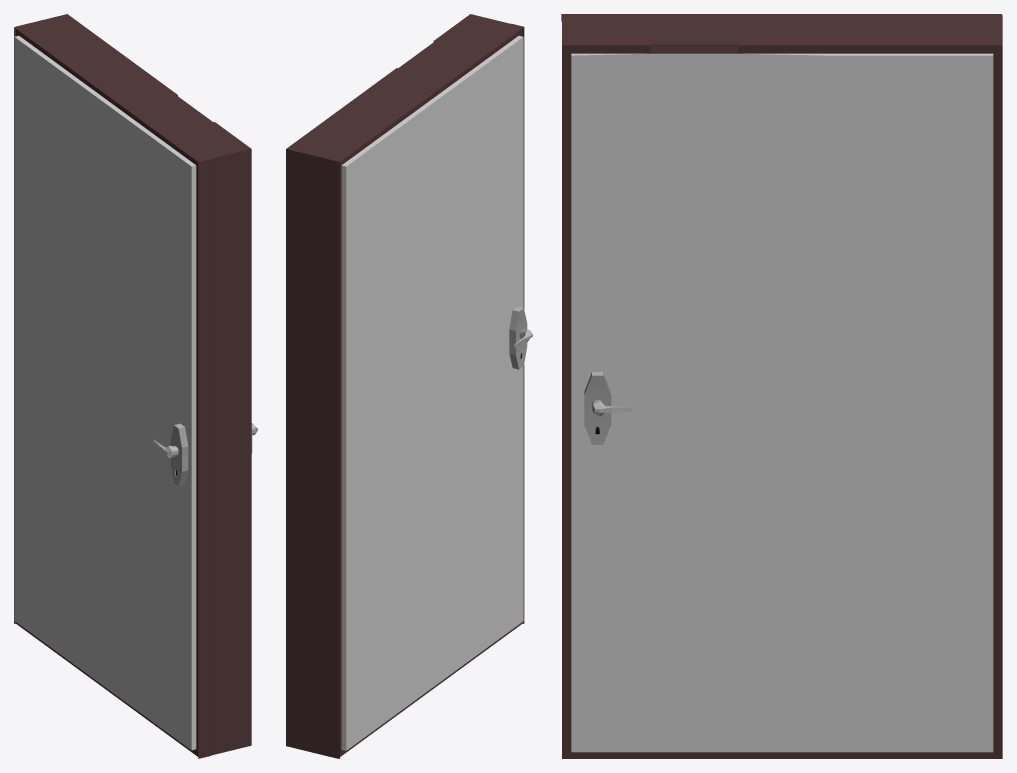
The model's file is Door-B.fbx.
The picture shows the model from 3 angles, left to right: view 1: azimuth 30°, elevation 25°; view 2: azimuth 150°, elevation 25°; view 3: azimuth 270°, elevation 25°; orthographic projection. The views are drawn at different scales.
Parts seen in each view (by area): view 1: Door B; view 2: Door B; view 3: Door B.
Boxes of the visible parts, left/top/right/bottom form: Door B: left=14, top=14, right=257, bottom=758; Door B: left=286, top=14, right=532, bottom=758; Door B: left=561, top=14, right=1002, bottom=758.
Bounding box in the file's own units: 81.38 × 497 × 279.
